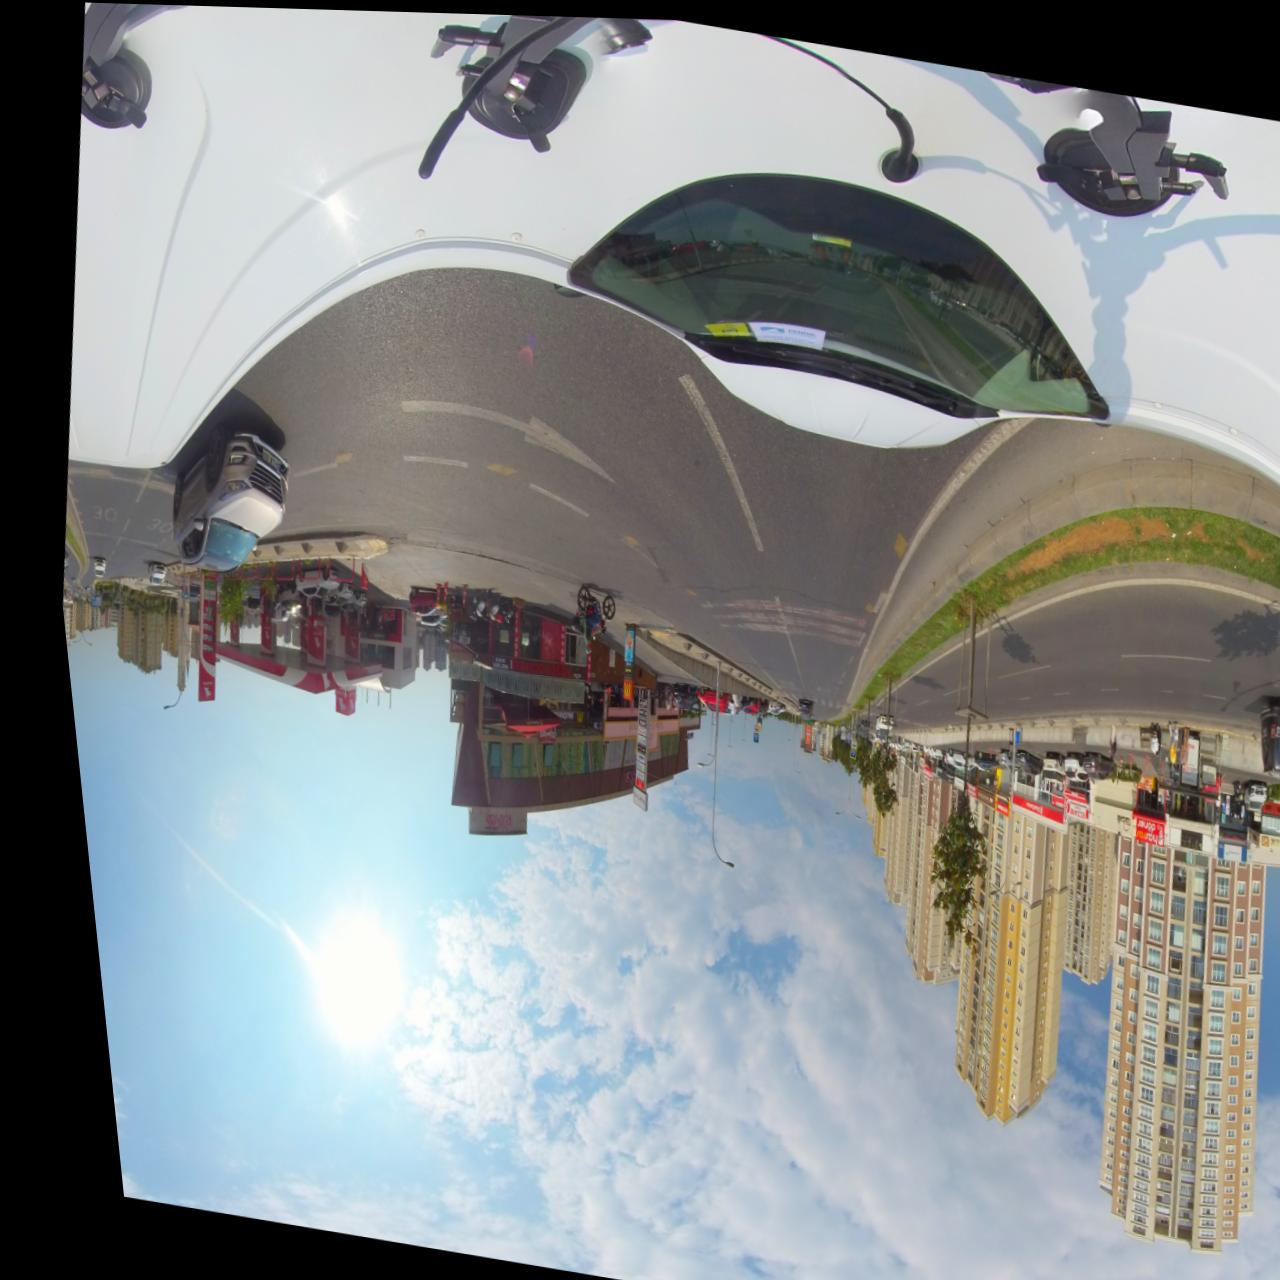SignStore: (492, 653, 554, 675), (1116, 810, 1146, 838), (1158, 821, 1185, 843), (1094, 802, 1114, 826), (1251, 828, 1280, 843), (1049, 794, 1069, 813), (1005, 791, 1026, 809), (1201, 836, 1224, 852), (537, 707, 567, 717), (959, 782, 975, 799), (978, 794, 990, 809), (949, 777, 958, 790), (938, 771, 946, 779)
